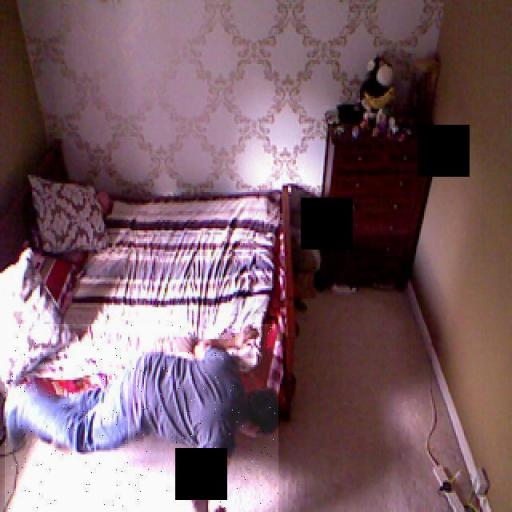Fall: (5, 324, 278, 512)
